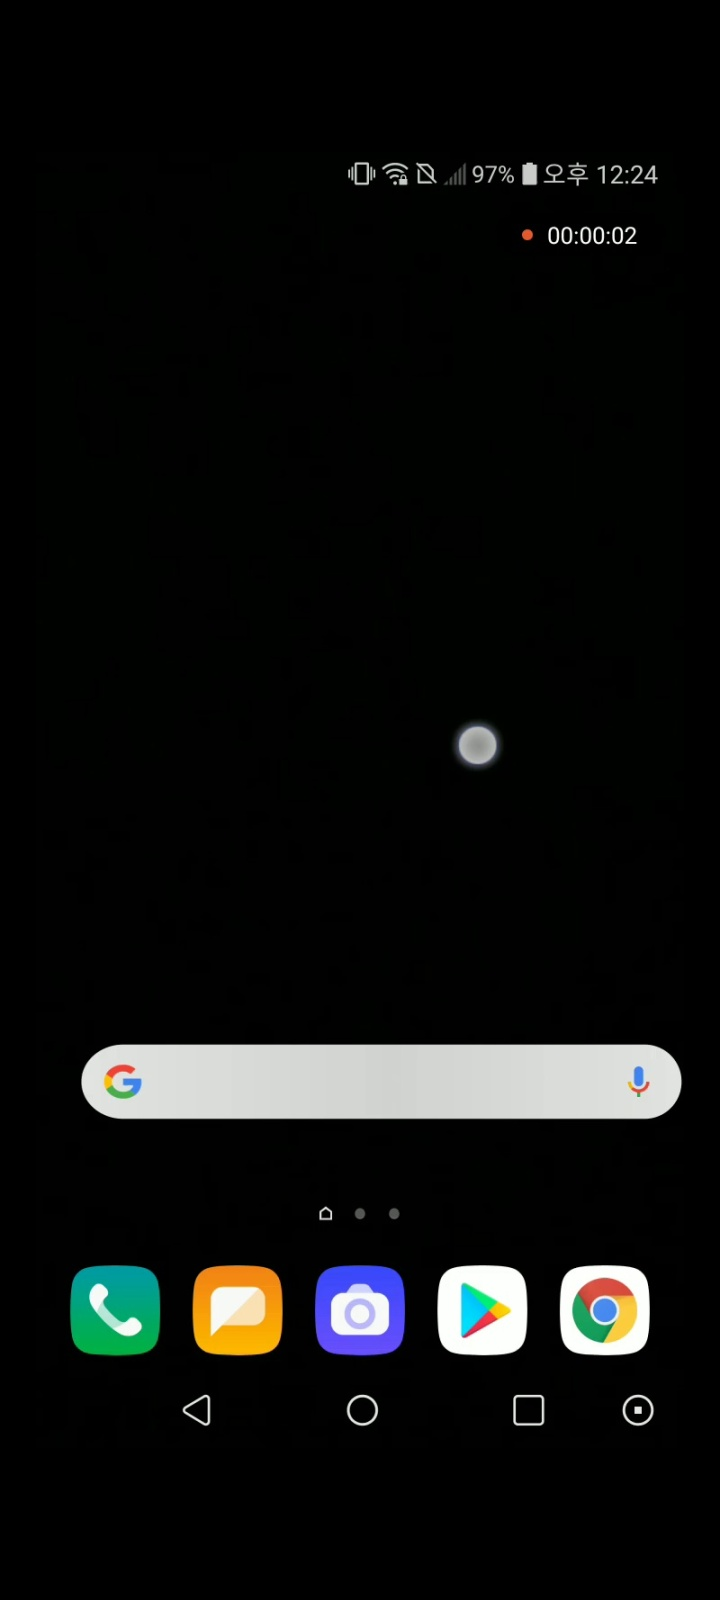Cursor: (456, 724, 501, 769)
